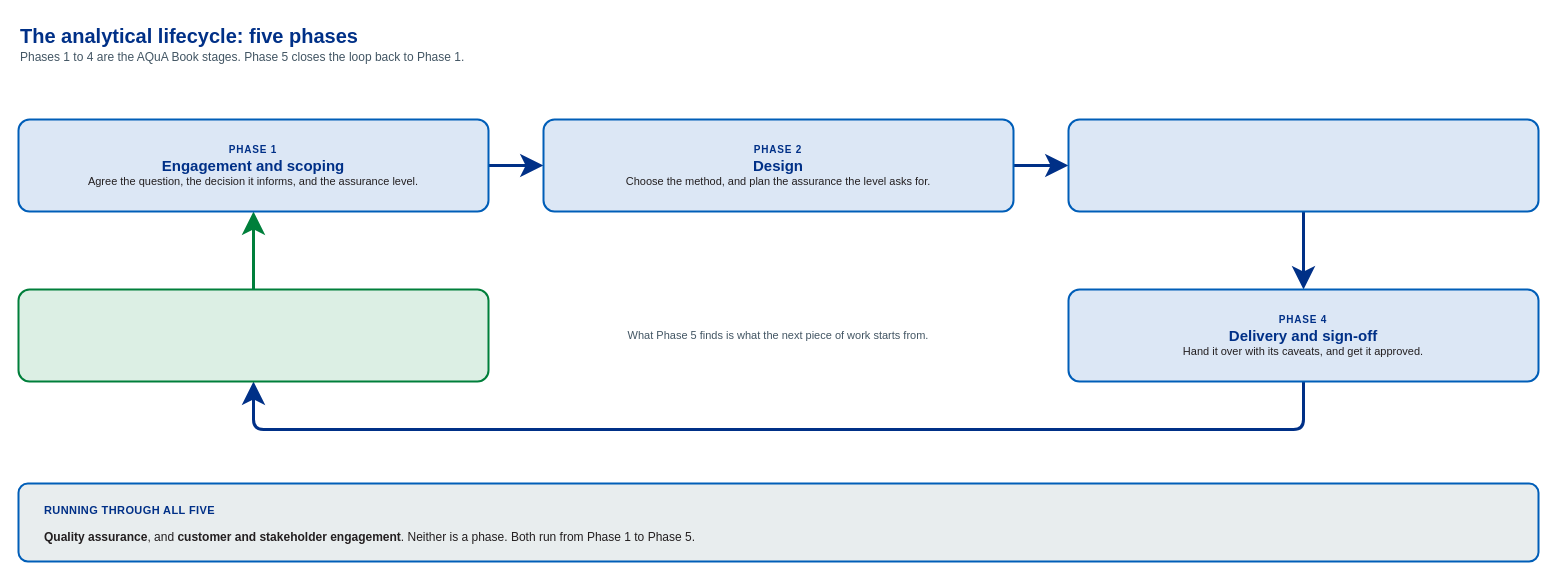
The diagram is 1556 pixels wide and 579 high, and some of its shapes have lost their labels. Here are the shapes that lost their labels. From the top down, the centre of each, then its label:
At point (1303, 165): "PHASE 3 Analysis Do the work, check it, and have it reviewed.".
At point (253, 335): "PHASE 5 Review Ask whether it worked, and whether it is still right.".
